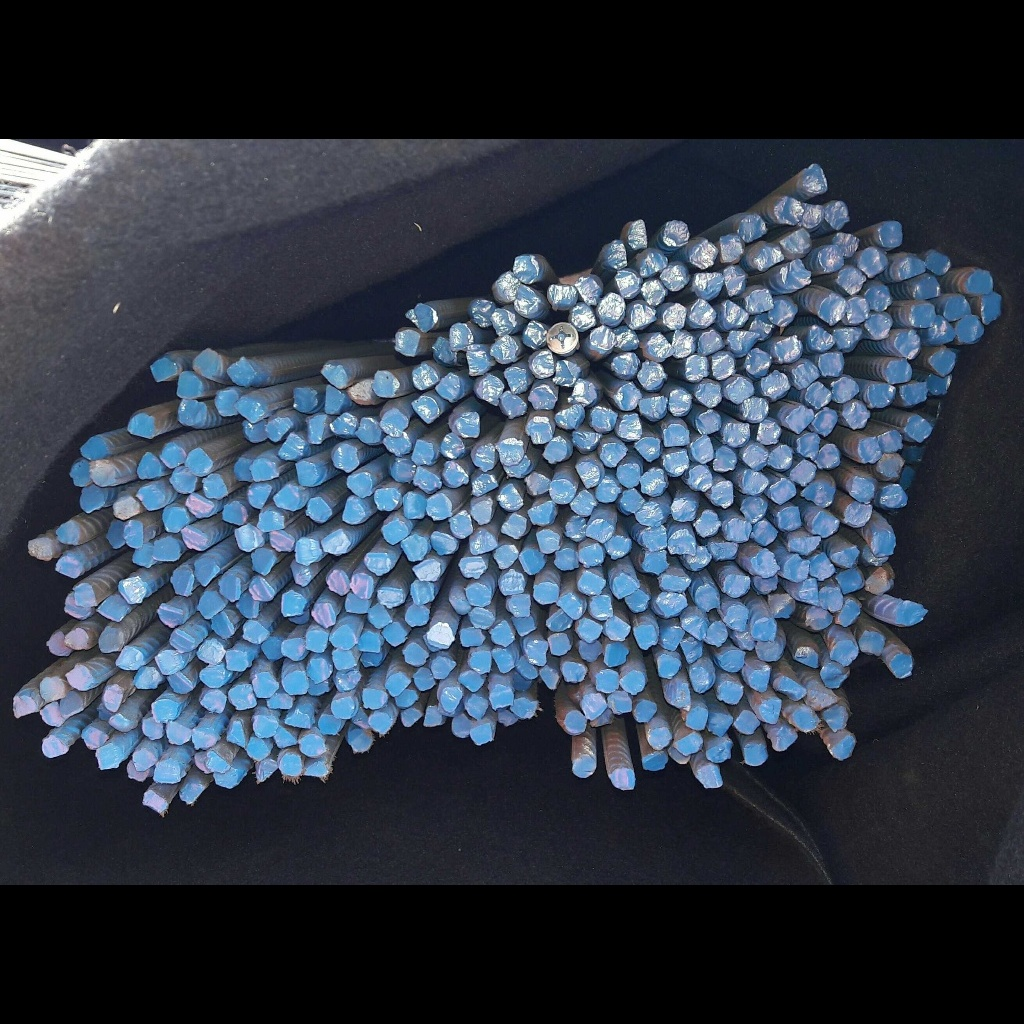dipstick: (659, 260, 689, 291), (817, 294, 847, 324), (476, 375, 504, 407), (768, 297, 798, 326), (859, 248, 889, 277), (492, 271, 519, 303), (597, 294, 626, 323), (760, 371, 789, 400), (782, 228, 811, 257), (227, 357, 255, 387), (408, 304, 438, 332), (626, 301, 657, 328), (637, 250, 668, 277), (198, 591, 227, 619), (513, 255, 542, 283), (489, 307, 518, 335), (774, 196, 803, 224), (642, 333, 672, 360), (693, 272, 724, 298), (412, 396, 440, 424), (689, 240, 717, 268), (191, 349, 220, 376), (435, 372, 462, 401), (864, 283, 893, 310), (234, 524, 264, 550), (412, 466, 442, 492), (616, 269, 642, 299), (737, 216, 768, 241), (801, 163, 826, 194), (773, 676, 805, 700), (332, 444, 359, 472), (490, 336, 518, 363), (497, 438, 525, 465), (638, 361, 665, 389), (782, 260, 810, 287), (956, 315, 984, 342), (186, 447, 212, 476), (373, 369, 399, 398), (529, 349, 555, 378), (556, 404, 585, 430), (577, 275, 603, 304), (821, 663, 850, 689), (896, 600, 926, 625), (128, 412, 155, 439), (470, 469, 497, 496), (905, 413, 932, 440), (838, 266, 865, 293), (177, 398, 203, 426), (119, 577, 147, 603), (64, 593, 92, 619), (501, 391, 527, 419), (690, 665, 716, 693), (668, 529, 696, 555), (774, 335, 802, 361), (865, 311, 891, 339), (235, 398, 264, 423), (186, 492, 215, 517), (155, 650, 184, 675), (321, 530, 350, 555), (469, 496, 494, 525), (660, 451, 689, 476), (725, 378, 754, 403), (656, 592, 686, 616), (638, 396, 668, 420), (825, 200, 849, 230), (467, 345, 490, 376), (753, 246, 784, 269), (79, 486, 105, 513), (427, 623, 453, 650), (468, 299, 494, 326), (505, 366, 531, 393), (526, 417, 553, 443), (500, 513, 527, 539), (642, 547, 669, 573), (695, 510, 721, 537), (721, 301, 748, 327), (865, 567, 891, 594), (813, 511, 839, 538), (809, 324, 835, 351), (229, 684, 257, 709), (364, 551, 392, 576), (441, 461, 469, 486), (528, 385, 556, 410), (689, 301, 717, 326), (830, 640, 858, 665), (836, 568, 864, 593), (843, 502, 871, 527), (844, 401, 869, 429), (866, 384, 894, 409), (97, 596, 126, 620), (321, 384, 345, 413), (603, 240, 627, 269), (719, 235, 743, 264), (723, 266, 747, 295), (805, 482, 834, 506), (879, 484, 908, 508), (80, 436, 110, 459), (281, 638, 311, 661), (637, 503, 667, 526), (90, 460, 116, 486), (170, 466, 196, 492), (162, 506, 188, 532), (279, 433, 305, 459), (401, 535, 427, 561), (559, 593, 585, 619), (570, 490, 596, 516), (641, 524, 667, 550), (695, 584, 721, 610), (591, 405, 617, 431), (571, 379, 597, 405), (613, 353, 639, 379), (641, 278, 667, 304), (805, 382, 831, 408), (793, 362, 819, 388), (832, 378, 858, 404), (945, 295, 971, 321), (176, 372, 201, 399), (197, 639, 224, 664), (306, 496, 331, 523), (395, 329, 420, 356), (346, 472, 373, 497), (390, 457, 417, 482), (455, 411, 480, 438), (472, 444, 497, 471), (449, 323, 474, 350), (549, 479, 576, 504), (752, 550, 779, 575), (822, 704, 847, 731), (817, 245, 844, 270), (153, 536, 181, 560), (60, 691, 84, 719), (295, 537, 319, 565), (433, 336, 457, 364), (499, 483, 523, 511), (982, 291, 1003, 323), (729, 331, 758, 354), (912, 274, 941, 297), (528, 502, 558, 524), (548, 284, 578, 306), (160, 443, 186, 468), (139, 485, 165, 510), (203, 473, 228, 499), (253, 672, 278, 698), (307, 657, 332, 683), (274, 484, 300, 509), (322, 362, 347, 388), (385, 671, 411, 696), (427, 494, 452, 520), (490, 620, 515, 646), (519, 549, 545, 574), (601, 443, 627, 468), (663, 220, 689, 245), (751, 520, 777, 545), (811, 553, 836, 579), (788, 406, 813, 432), (909, 303, 935, 328), (894, 331, 919, 357), (113, 495, 140, 519), (242, 619, 269, 643), (195, 559, 219, 586), (330, 412, 357, 436), (381, 409, 408, 433), (350, 572, 374, 599), (383, 620, 407, 647), (666, 683, 690, 710), (613, 572, 637, 599), (684, 546, 711, 570), (616, 383, 640, 410), (612, 326, 639, 350), (746, 289, 773, 313), (828, 735, 855, 759), (836, 599, 860, 626), (876, 453, 903, 477), (814, 410, 838, 437), (154, 760, 182, 783), (250, 458, 278, 481), (431, 531, 459, 554), (577, 571, 605, 594), (172, 566, 194, 595), (626, 219, 647, 249), (99, 627, 124, 652), (67, 665, 92, 690), (293, 387, 318, 412), (382, 519, 407, 544), (536, 529, 561, 554), (554, 361, 579, 386), (571, 304, 596, 329), (696, 382, 721, 407), (743, 397, 768, 422), (860, 631, 885, 656), (835, 327, 860, 352), (929, 350, 954, 375), (150, 358, 176, 382), (136, 452, 160, 478), (167, 670, 193, 694), (283, 670, 309, 694), (330, 625, 356, 649), (236, 592, 260, 618), (411, 440, 435, 466), (619, 670, 645, 694), (676, 731, 702, 755), (576, 461, 600, 487), (724, 605, 748, 631), (725, 518, 751, 542), (741, 468, 767, 492), (785, 555, 809, 581), (870, 532, 896, 556), (791, 459, 815, 485), (850, 477, 874, 503), (746, 349, 770, 375), (373, 488, 400, 511), (524, 321, 547, 348), (583, 693, 606, 720), (603, 618, 630, 641), (723, 573, 750, 596), (712, 351, 735, 378), (806, 607, 833, 630), (901, 382, 928, 405), (216, 389, 238, 417), (604, 536, 632, 558), (711, 480, 733, 508), (306, 415, 327, 444), (896, 257, 925, 278), (55, 520, 80, 544), (166, 720, 191, 744), (252, 714, 277, 738), (158, 603, 183, 627), (312, 603, 336, 628), (358, 418, 382, 443), (385, 432, 410, 456), (440, 433, 464, 458), (413, 364, 437, 389), (494, 544, 519, 568), (697, 764, 722, 788), (707, 738, 732, 762), (719, 680, 744, 704), (657, 654, 681, 679), (633, 623, 657, 648), (682, 615, 707, 639), (641, 470, 665, 495), (635, 437, 660, 461), (591, 325, 616, 349), (770, 593, 795, 617), (819, 586, 843, 611), (816, 444, 840, 469), (819, 352, 844, 376), (801, 203, 825, 228), (42, 734, 68, 757), (82, 726, 108, 749), (134, 666, 160, 689), (247, 483, 270, 509), (296, 461, 319, 487), (242, 419, 268, 442), (326, 569, 349, 595), (465, 583, 491, 606), (524, 472, 550, 495), (734, 711, 760, 734), (576, 619, 602, 642), (680, 638, 703, 664), (544, 436, 567, 462), (619, 413, 642, 439), (698, 331, 724, 354), (685, 354, 708, 380), (770, 480, 796, 503), (833, 233, 859, 256), (879, 221, 902, 247), (966, 270, 992, 293), (55, 555, 82, 577), (413, 559, 440, 581), (361, 688, 388, 710), (404, 492, 426, 519), (459, 557, 486, 579), (510, 614, 537, 636), (586, 519, 613, 541), (572, 430, 599, 452), (691, 436, 713, 463), (103, 684, 124, 712), (124, 520, 144, 549), (132, 543, 156, 567), (96, 745, 120, 769), (281, 591, 305, 615), (404, 643, 428, 667), (499, 571, 523, 595), (589, 595, 613, 619), (757, 420, 781, 444), (27, 538, 52, 561), (182, 527, 207, 550), (40, 677, 65, 700), (14, 692, 37, 717), (300, 734, 325, 757), (201, 690, 226, 713), (269, 529, 294, 552), (343, 499, 366, 524), (525, 640, 548, 665), (610, 767, 635, 790), (660, 626, 683, 651), (563, 516, 586, 541), (671, 499, 696, 522), (668, 390, 691, 415), (713, 447, 736, 472), (741, 496, 766, 519), (771, 728, 796, 751), (744, 444, 767, 469), (768, 445, 791, 470), (887, 360, 912, 383), (925, 250, 950, 273), (116, 647, 142, 669), (152, 699, 178, 721), (200, 666, 226, 688), (170, 628, 196, 650), (212, 612, 234, 638), (219, 575, 241, 601), (252, 549, 274, 575), (450, 511, 472, 537), (459, 670, 485, 692), (546, 609, 572, 631), (553, 548, 579, 570), (595, 476, 617, 502), (707, 542, 737, 561), (335, 670, 362, 691), (258, 511, 285, 532), (470, 530, 497, 551), (576, 640, 603, 661), (673, 330, 694, 357), (724, 423, 751, 444), (792, 710, 819, 731), (106, 520, 126, 548), (280, 753, 303, 777), (332, 696, 356, 719), (250, 577, 274, 600), (223, 502, 247, 525), (431, 657, 455, 680), (410, 580, 434, 603), (491, 648, 514, 672), (508, 593, 531, 617), (647, 727, 671, 750), (744, 743, 768, 766), (605, 642, 628, 666), (752, 618, 776, 641), (617, 463, 640, 487), (697, 411, 721, 434), (858, 438, 881, 462), (143, 790, 168, 812), (369, 603, 391, 628), (470, 607, 495, 629), (491, 683, 513, 708), (534, 582, 559, 604), (708, 714, 733, 736), (759, 698, 781, 723), (579, 543, 604, 565), (690, 465, 712, 490), (756, 639, 781, 661), (70, 460, 91, 486), (663, 424, 689, 445), (511, 698, 538, 718), (808, 689, 838, 707), (227, 719, 246, 747), (74, 583, 97, 606), (247, 737, 270, 760), (261, 637, 284, 660), (306, 630, 329, 653), (267, 418, 290, 441), (468, 650, 491, 673), (465, 695, 488, 718), (596, 669, 619, 692), (621, 489, 644, 512), (778, 507, 801, 530), (41, 702, 63, 726), (413, 667, 435, 691), (405, 604, 429, 626), (625, 590, 649, 612), (705, 621, 727, 645), (846, 298, 868, 322), (789, 536, 820, 553), (49, 631, 70, 656), (205, 751, 230, 772), (719, 650, 744, 671), (664, 303, 685, 328), (795, 646, 820, 667), (377, 587, 404, 606), (141, 717, 164, 739), (274, 726, 297, 748), (470, 722, 492, 745), (634, 700, 657, 722), (547, 634, 570, 656), (891, 654, 913, 677), (797, 433, 819, 456), (64, 628, 88, 649), (214, 767, 238, 788), (304, 756, 328, 777), (332, 649, 356, 670), (357, 631, 381, 652), (564, 711, 585, 735), (608, 692, 632, 713), (686, 706, 707, 730), (345, 593, 370, 613), (441, 687, 461, 712), (561, 662, 586, 682), (800, 578, 819, 604), (285, 710, 312, 728), (661, 573, 688, 591), (133, 748, 155, 770), (349, 729, 371, 751), (256, 759, 277, 782), (225, 650, 248, 671), (573, 756, 596, 777), (879, 431, 902, 452), (643, 751, 667, 771), (460, 627, 485, 646), (127, 760, 149, 781), (369, 712, 392, 732), (395, 688, 418, 708), (749, 669, 769, 692), (832, 548, 859, 565), (191, 730, 216, 748), (109, 713, 135, 730), (424, 705, 445, 726), (318, 714, 340, 734), (180, 783, 203, 802), (235, 458, 254, 481), (452, 714, 471, 737), (266, 693, 293, 709), (541, 666, 560, 688), (754, 576, 778, 592), (402, 707, 422, 726)
